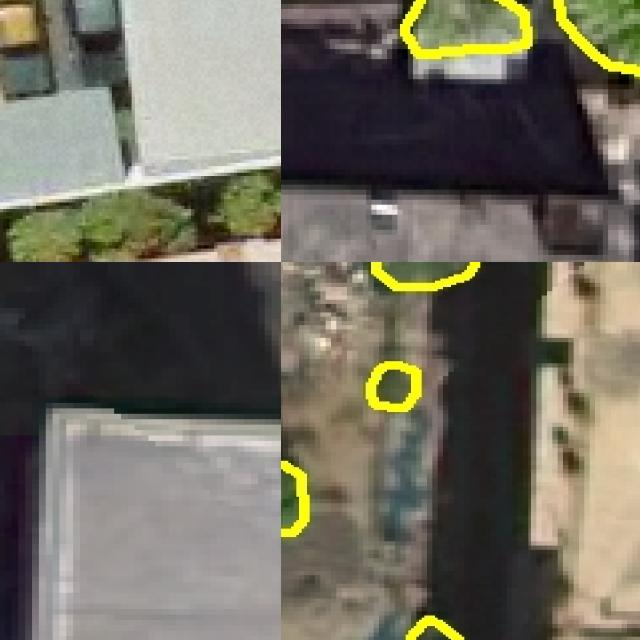trees: (18, 194, 199, 263), (88, 194, 199, 263), (404, 1, 528, 55), (212, 174, 282, 240), (375, 263, 478, 288), (369, 364, 417, 409), (282, 464, 308, 534), (409, 619, 460, 640)
